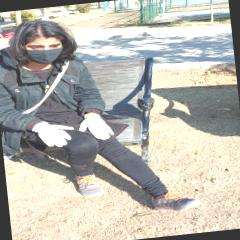gloved: (31, 118, 73, 150), (78, 112, 114, 142)
